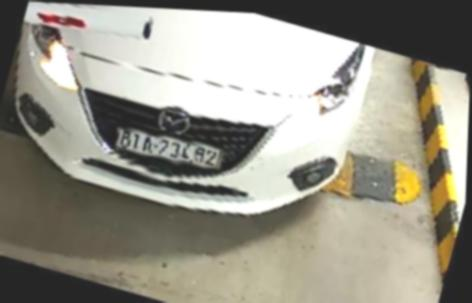License_Plate: (119, 125, 225, 176)
